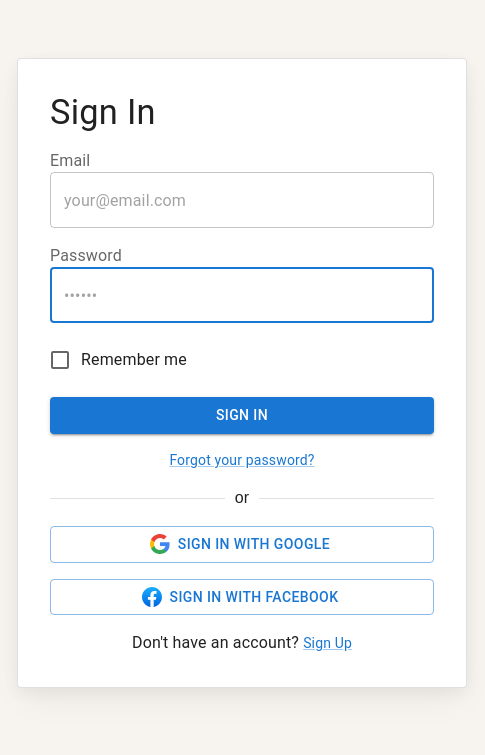
Scenario: authentication form integration › renders a recoverable network error and prevents duplicate login requests
Type "tutor@example.com" into the field labelled "Email" at [242, 200], box x1=50 y1=172 x2=434 y2=228
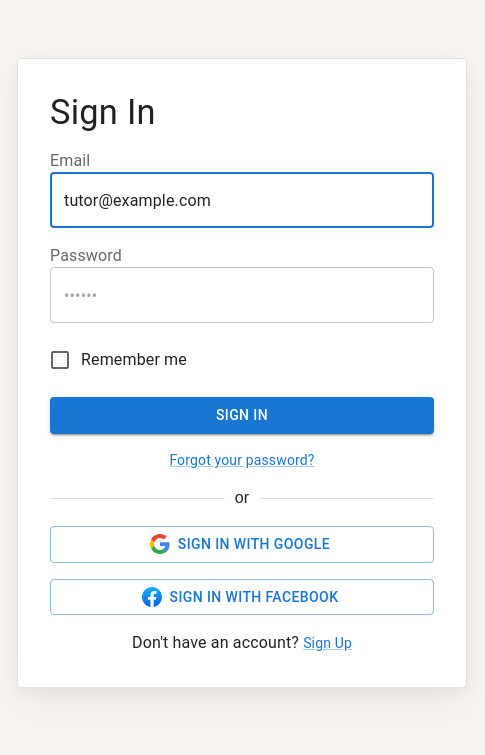
Type "password-123" into the password field labelled "Password" at [242, 296], box x1=50 y1=268 x2=434 y2=324
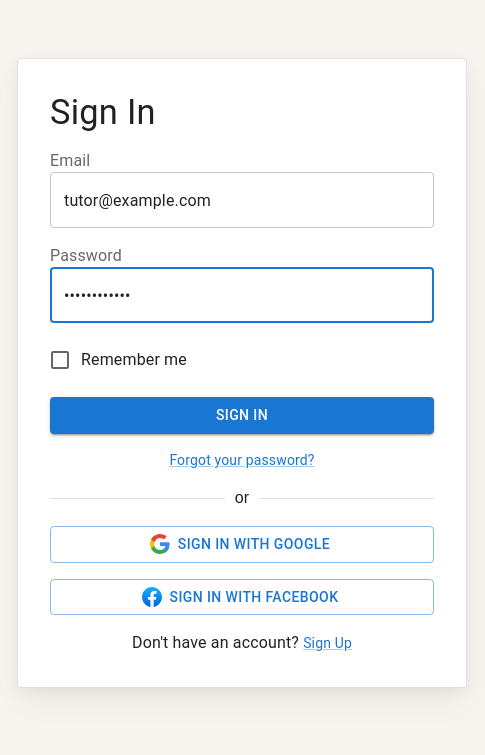
Click the button "Sign In" at [242, 416], box x1=50 y1=398 x2=434 y2=434
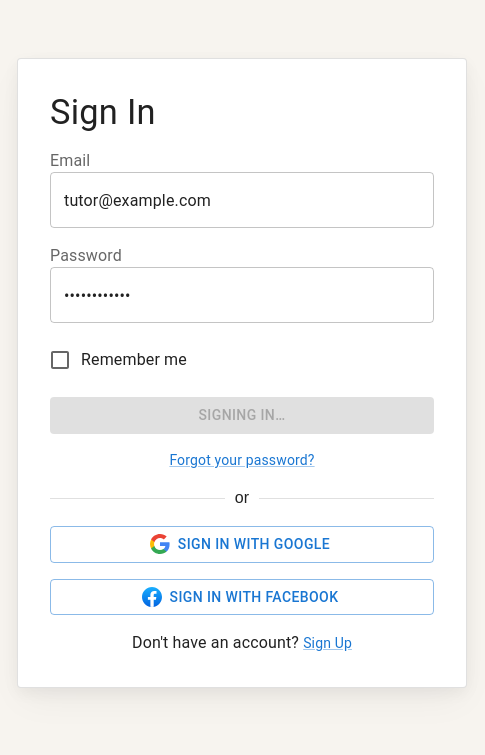
Check: the button "Signing in…" is disabled
Click the button "Signing in…" at [242, 416], box x1=50 y1=398 x2=434 y2=434
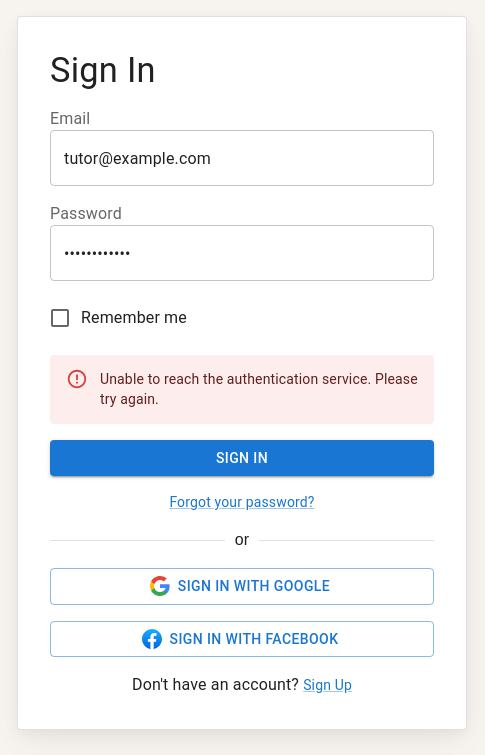
Check: the text "Unable to reach the authentication service. Please try again." is shown, box x1=100 y1=362 x2=418 y2=418
Check: the button "Sign In" is enabled, box x1=50 y1=440 x2=434 y2=476
